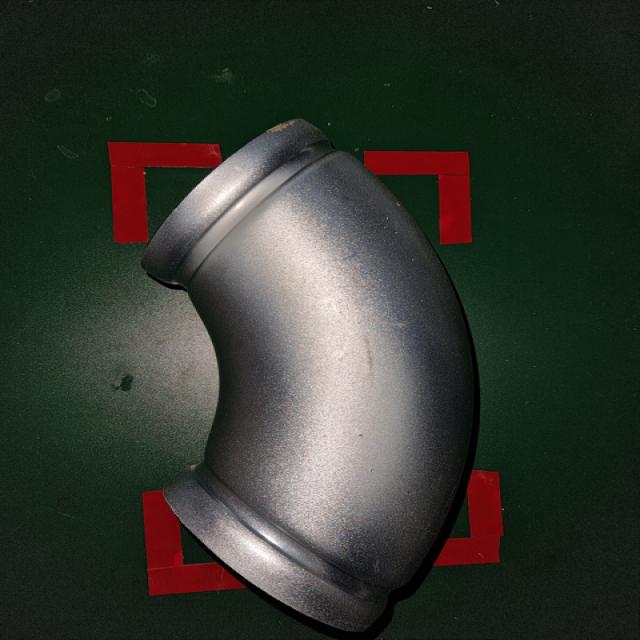Normal: (133, 112, 496, 640)
